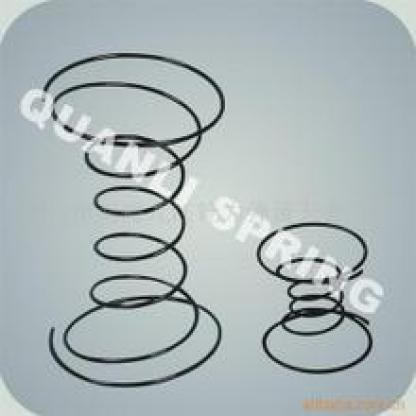FOD: (38, 46, 231, 392), (250, 218, 378, 376)
